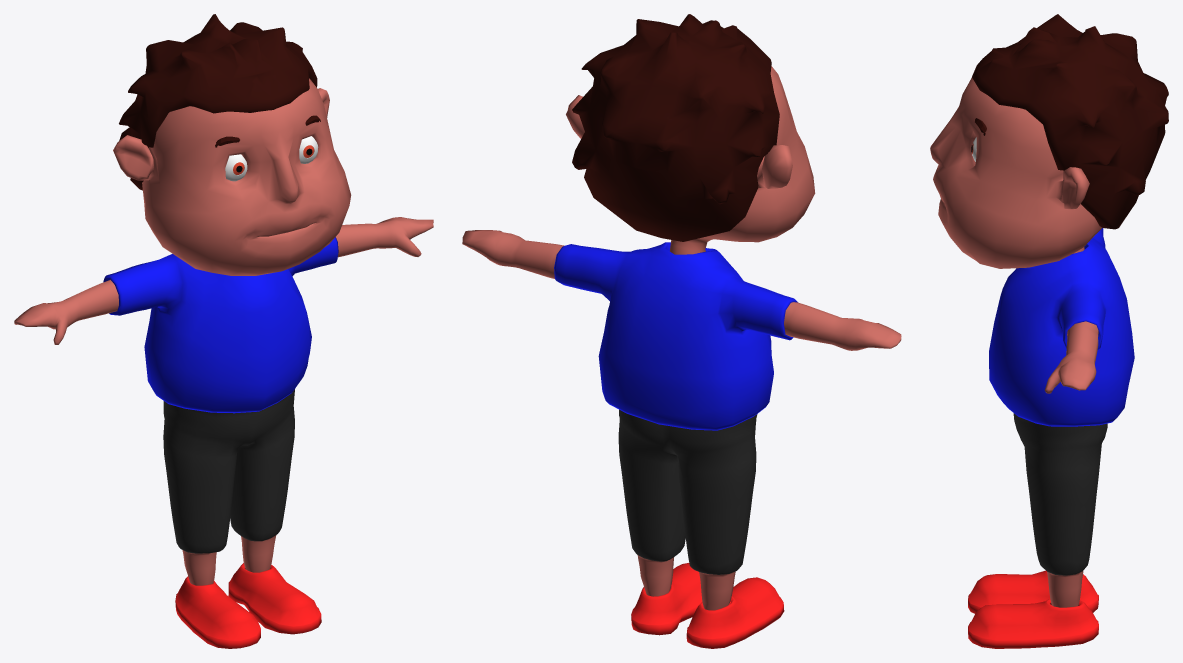
The model's file is CharacterTPose.FBX.
The picture shows the model from 3 angles, left to right: view 1: azimuth 30°, elevation 25°; view 2: azimuth 150°, elevation 25°; view 3: azimuth 270°, elevation 25°; orthographic projection. The views are drawn at different scales.
Parts seen in each view (by area): view 1: Character; view 2: Character; view 3: Character.
Boxes of the visible parts, x1,y1,x2,y2 form: Character: (14, 14, 433, 648); Character: (462, 14, 901, 648); Character: (930, 14, 1168, 648).
Size of the model in its own units: 108 by 144 by 52.43.
